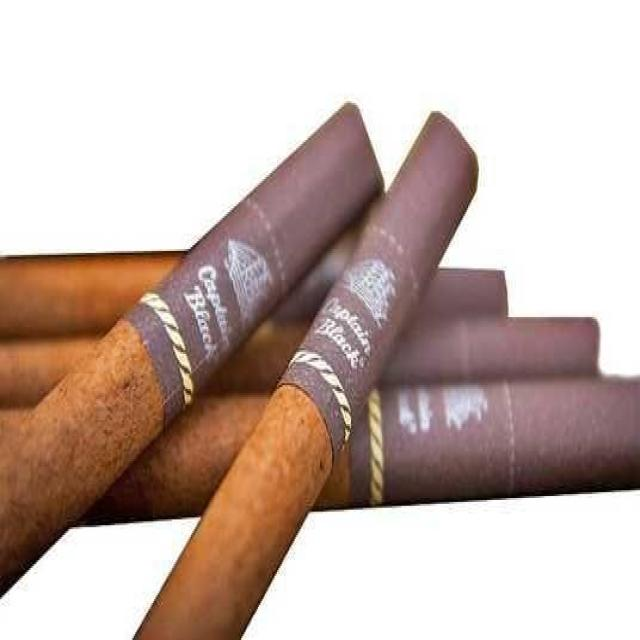cigarette: (0, 103, 383, 599), (146, 119, 476, 638), (310, 383, 639, 512), (79, 396, 267, 525), (0, 255, 183, 339), (377, 319, 599, 388), (203, 324, 306, 397), (0, 338, 97, 412), (405, 270, 510, 331)
